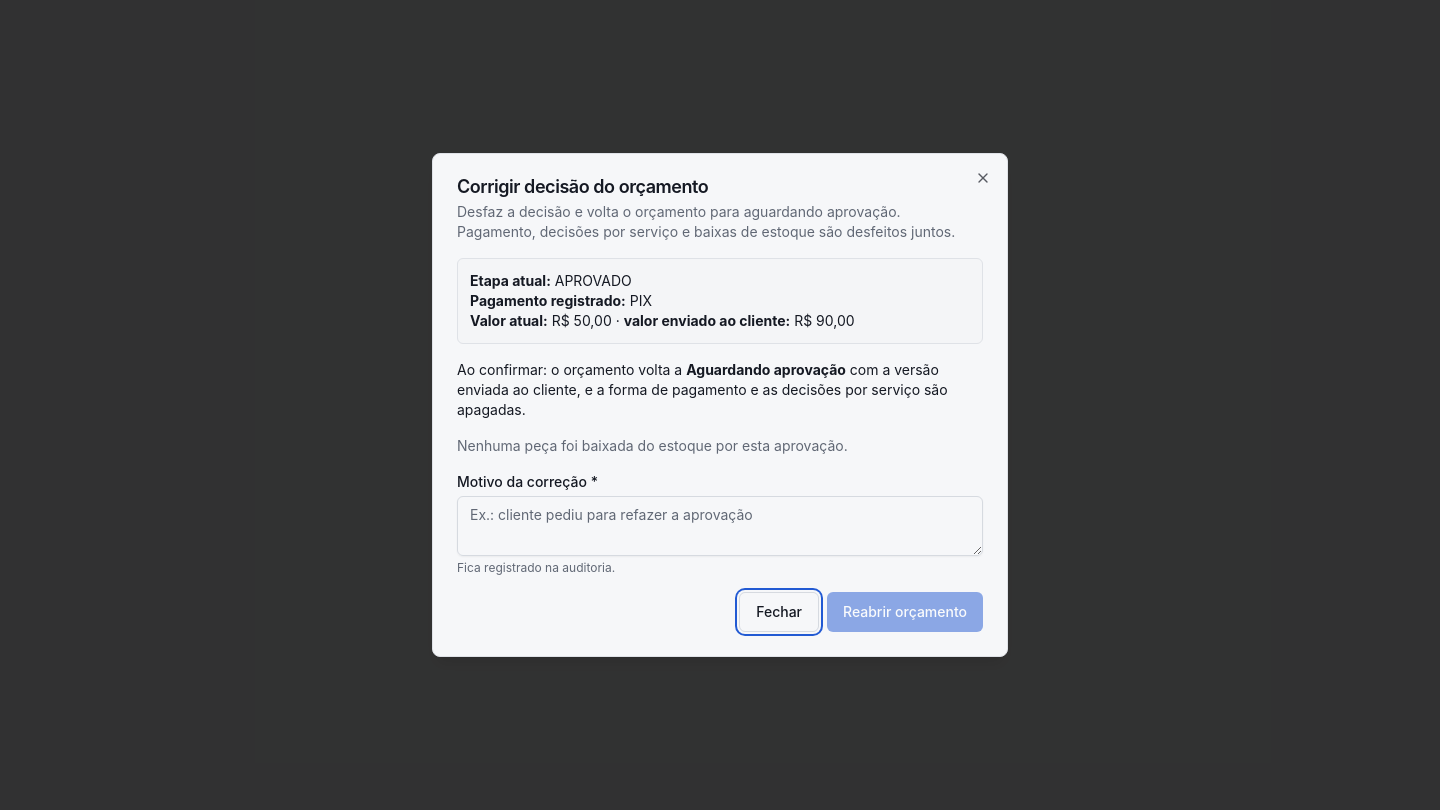
Test: CorrigirDecisaoDialog › não pede decisão de estoque quando nada foi baixado
The width and height of the screenshot is (1440, 810).
In the text box labelled "Motivo da correção *": (720, 526) [457, 496, 983, 556], type "Aprovação por engano"
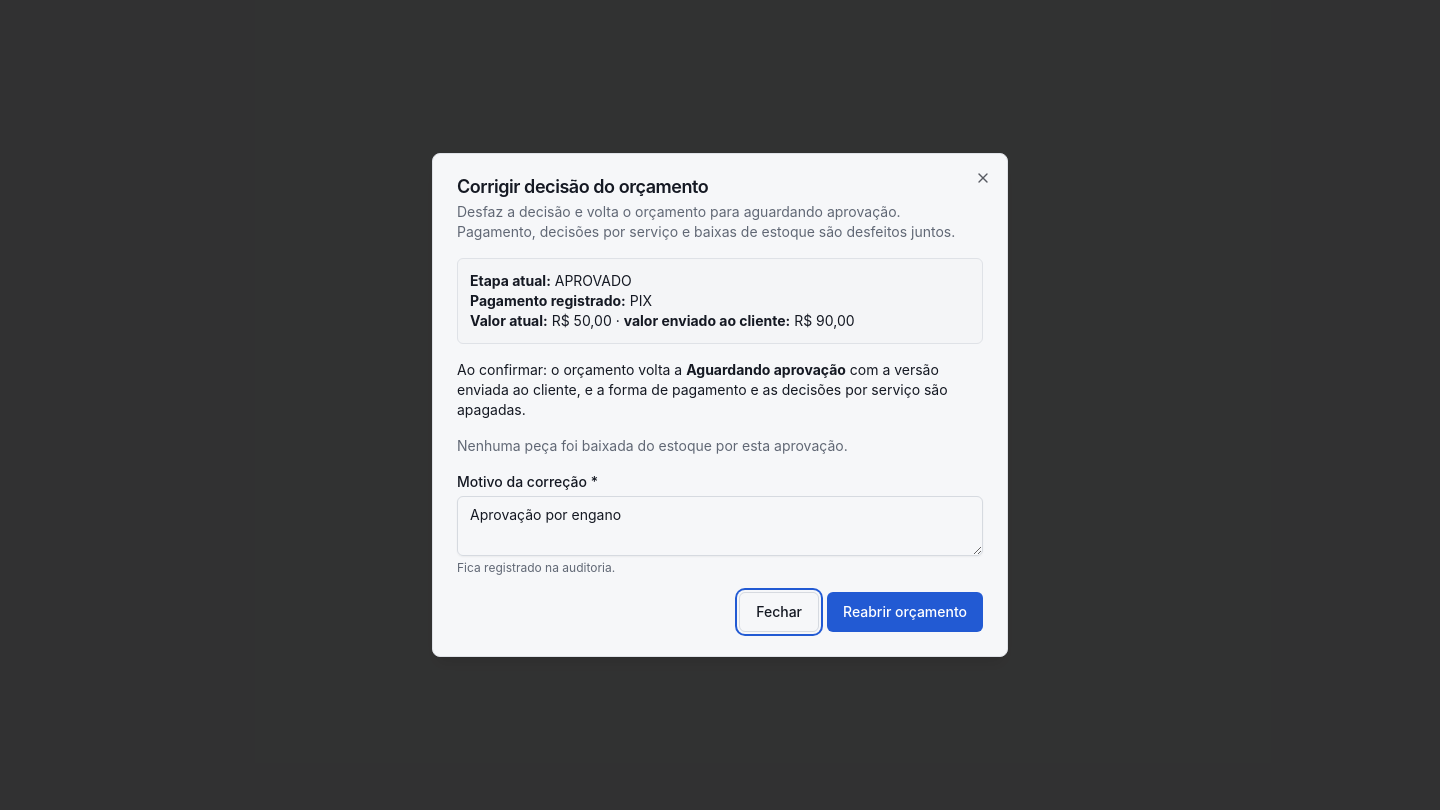
Expected: the button "Reabrir orçamento" is enabled, [827, 592, 983, 632]
